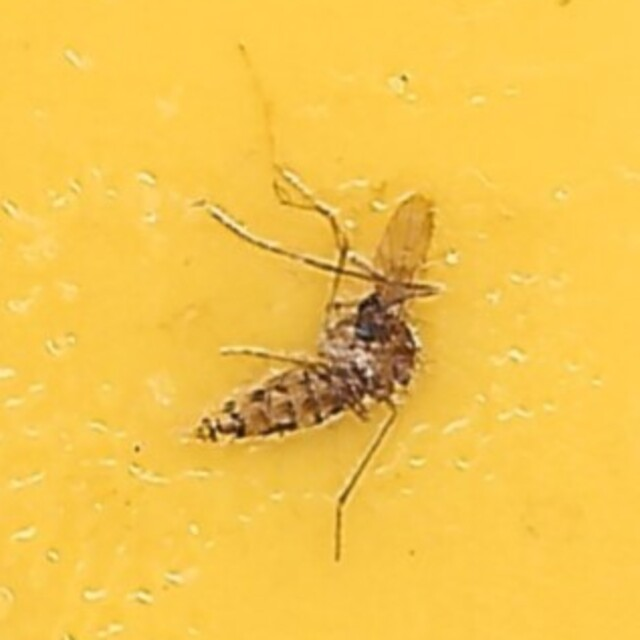Nematocera: (202, 195, 438, 445)
